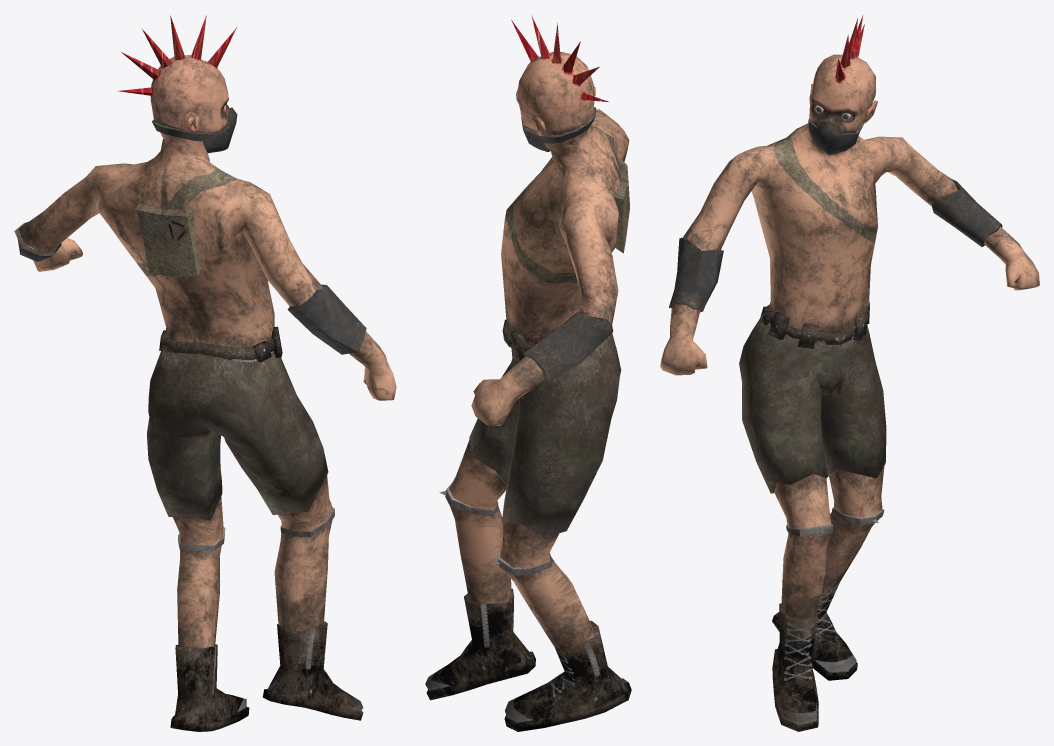
Rendered from Anim_ataque_f1_npc2.0027.obj.
3 views of the same model, side by side, from view 1: azimuth 30°, elevation 25°; view 2: azimuth 150°, elevation 25°; view 3: azimuth 270°, elevation 25° (orthographic). The views are drawn at different scales.
Visible parts, largest first — view 1: polySurface1; view 2: polySurface1; view 3: polySurface1.
Boxes of the visible parts, x1,y1,x2,y2 form: polySurface1: (14,15,396,731); polySurface1: (425,15,631,731); polySurface1: (660,14,1039,731).
Size of the model in its own units: 3.86 by 10.12 by 5.38.
Materials: 2 (2 with a texture image).
